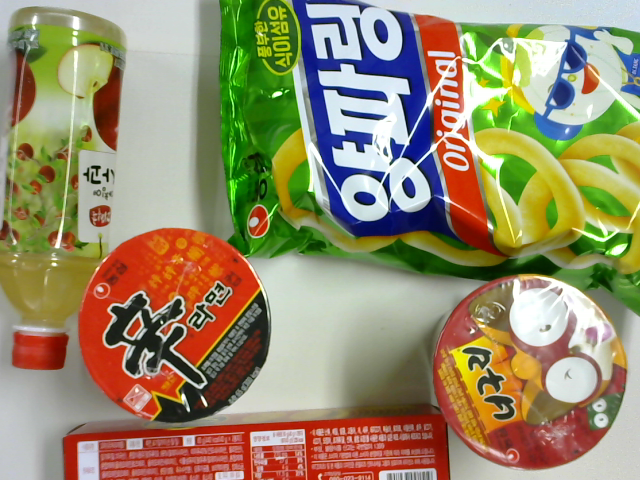Morning_Apple_500ml: (1, 5, 129, 371)
Oninon_Ring: (217, 1, 635, 317)
Ritz_Cracker: (62, 403, 452, 480)
Sinramen_small: (427, 273, 628, 471), (80, 227, 272, 423)
